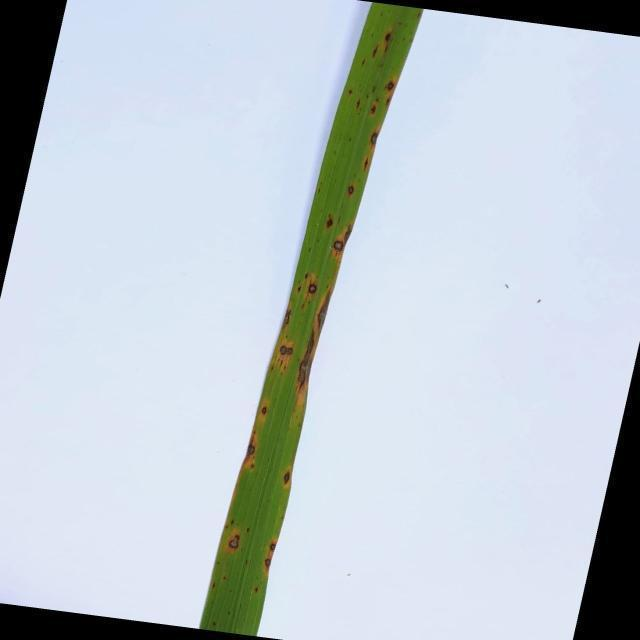Leaf_Blast: (297, 327, 317, 395), (316, 286, 334, 334), (243, 437, 258, 461), (305, 279, 319, 299), (331, 237, 345, 255), (228, 534, 241, 550), (282, 468, 291, 491), (342, 226, 354, 243), (281, 310, 292, 328), (279, 344, 294, 357), (324, 217, 337, 230), (369, 131, 378, 148), (362, 154, 370, 171), (371, 44, 379, 61), (346, 184, 356, 197), (369, 103, 378, 117), (260, 404, 269, 417), (384, 31, 393, 43), (386, 80, 395, 92), (264, 558, 272, 571), (269, 541, 276, 552), (360, 58, 367, 68), (347, 88, 354, 96)
